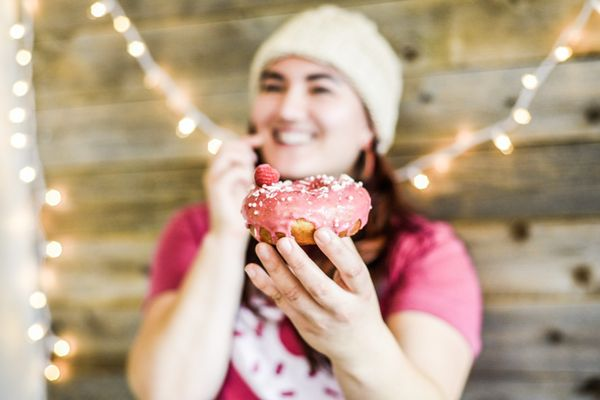salad: (242, 173, 373, 248)
